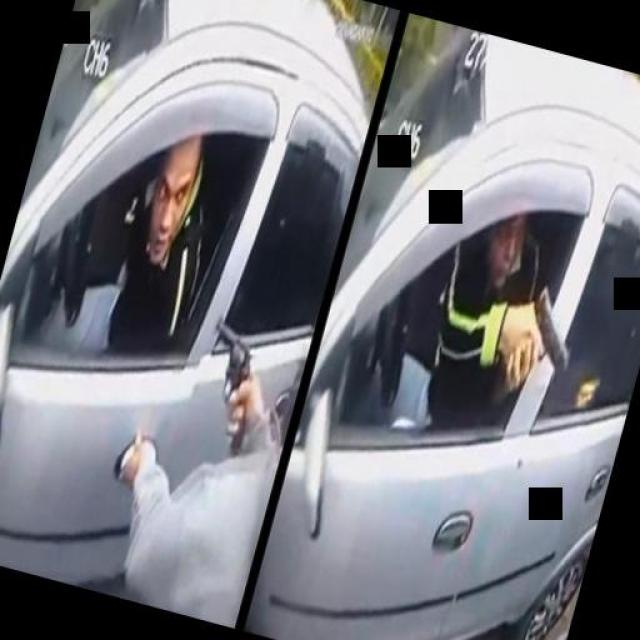gun: (182, 314, 272, 454), (500, 274, 588, 400)
